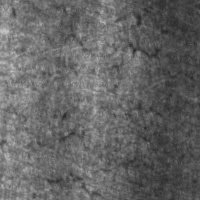crazing: (42, 120, 172, 200), (46, 3, 173, 61)
